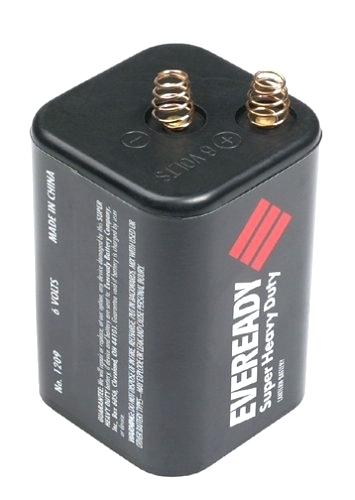6V: (29, 36, 318, 482)
